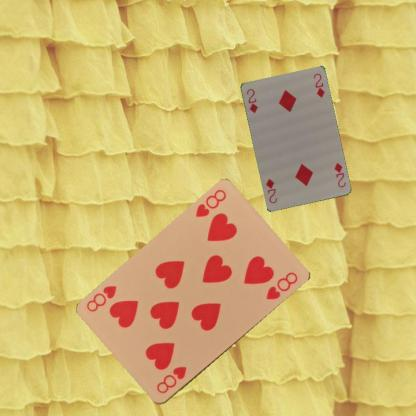2d: (331, 160, 347, 188), (244, 86, 259, 114)
8h: (192, 187, 228, 219), (154, 364, 188, 395)
